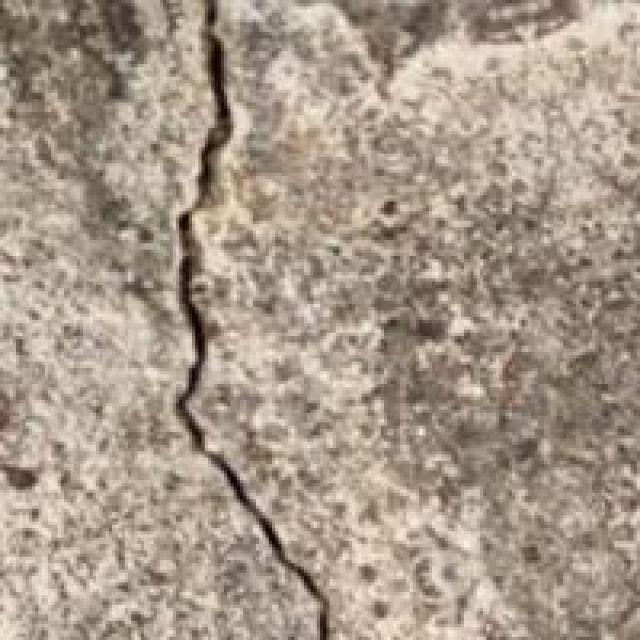crack: (150, 0, 352, 640)
